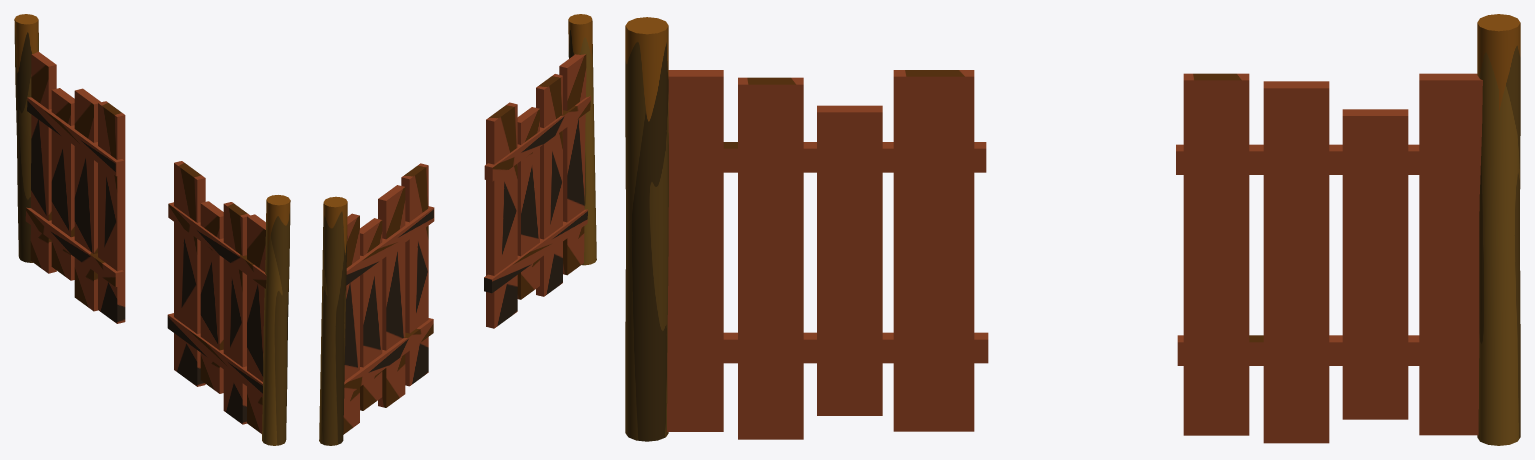
The model's file is PMC_Puerta.FBX.
The picture shows the model from 3 angles, left to right: view 1: azimuth 30°, elevation 25°; view 2: azimuth 150°, elevation 25°; view 3: azimuth 270°, elevation 25°; orthographic projection. The views are drawn at different scales.
Parts seen in each view (by area): view 1: NMC03_TroncoP02, NMC03_Tablon04, NMC03_Tablon12, NMC03_Tablon10, NMC03_Tablon03, NMC03_Tablon01, NMC03_TroncoP01, NMC03_Tablon11, NMC03_Tablon02, NMC03_Tablon09, NMC03_Tablon06, NMC03_Tablon05 (+2 smaller); view 2: NMC03_TroncoP01, NMC03_Tablon12, NMC03_Tablon03, NMC03_Tablon04, NMC03_Tablon10, NMC03_Tablon09, NMC03_Tablon11, NMC03_Tablon02, NMC03_TroncoP02, NMC03_Tablon01, NMC03_Tablon08, NMC03_Tablon07 (+2 smaller); view 3: NMC03_Tablon12, NMC03_Tablon03, NMC03_Tablon04, NMC03_Tablon10, NMC03_Tablon01, NMC03_Tablon02, NMC03_Tablon11, NMC03_Tablon09, NMC03_TroncoP02, NMC03_TroncoP01, NMC03_Tablon07, NMC03_Tablon08 (+2 smaller).
Boxes of the visible parts, x1,y1,x2,y2 form: NMC03_TroncoP02: [262, 195, 290, 445]; NMC03_Tablon04: [98, 101, 125, 323]; NMC03_Tablon12: [174, 161, 205, 386]; NMC03_Tablon10: [223, 202, 249, 424]; NMC03_Tablon03: [74, 88, 100, 311]; NMC03_Tablon01: [30, 51, 56, 273]; NMC03_TroncoP01: [14, 14, 38, 262]; NMC03_Tablon11: [200, 201, 223, 393]; NMC03_Tablon02: [51, 88, 74, 280]; NMC03_Tablon09: [247, 214, 265, 433]; NMC03_Tablon06: [25, 207, 123, 286]; NMC03_Tablon05: [27, 97, 124, 176]; NMC03_TroncoP01: [319, 196, 347, 445]; NMC03_Tablon12: [486, 102, 517, 328]; NMC03_Tablon03: [378, 185, 405, 407]; NMC03_Tablon04: [401, 163, 428, 386]; NMC03_Tablon10: [536, 74, 562, 296]; NMC03_Tablon09: [559, 54, 586, 275]; NMC03_Tablon11: [517, 107, 539, 299]; NMC03_Tablon02: [360, 218, 382, 410]; NMC03_TroncoP02: [568, 14, 596, 265]; NMC03_Tablon01: [343, 213, 359, 434]; NMC03_Tablon08: [484, 96, 590, 181]; NMC03_Tablon07: [484, 209, 587, 293]; NMC03_Tablon12: [893, 70, 974, 431]; NMC03_Tablon03: [1263, 81, 1329, 443]; NMC03_Tablon04: [1183, 73, 1249, 435]; NMC03_Tablon10: [738, 77, 803, 439]; NMC03_Tablon01: [1419, 73, 1482, 435]; NMC03_Tablon02: [1342, 109, 1408, 419]; NMC03_Tablon11: [817, 105, 882, 415]; NMC03_Tablon09: [667, 70, 723, 431]; NMC03_TroncoP02: [625, 17, 668, 441]; NMC03_TroncoP01: [1477, 14, 1520, 445]; NMC03_Tablon07: [723, 332, 988, 363]; NMC03_Tablon08: [723, 142, 986, 172].
Bounding box in the file's own units: 0.3155 × 2.84 × 5.54.
